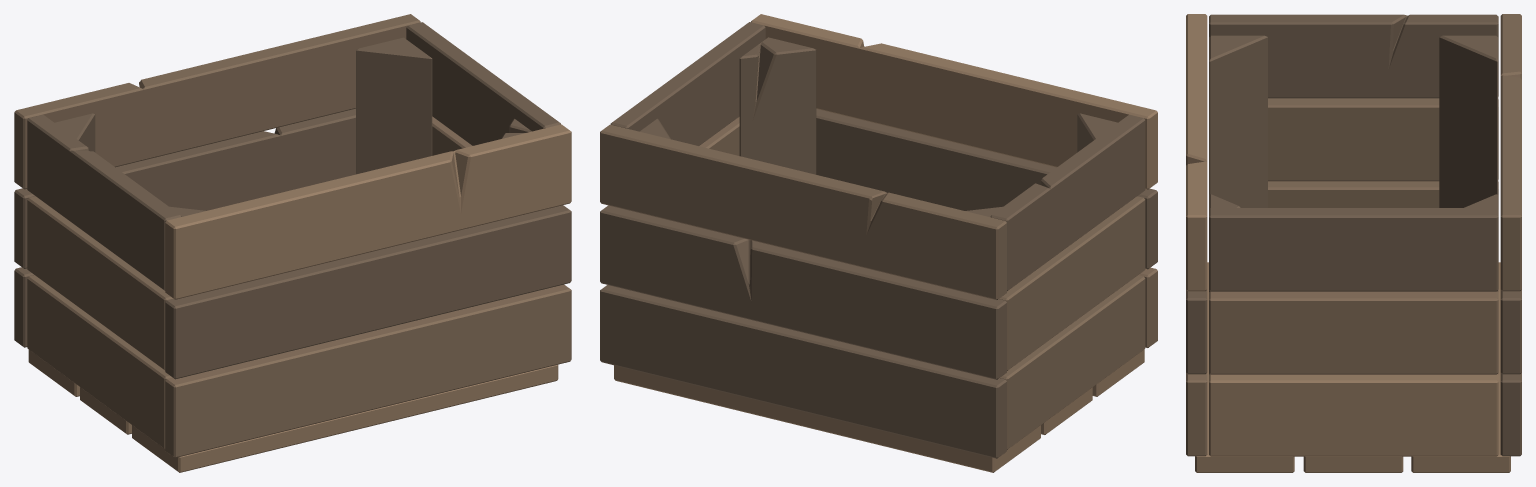
The model's file is crate_small.glb.
3 renders of one model, left to right at view 1: azimuth 30°, elevation 25°; view 2: azimuth 150°, elevation 25°; view 3: azimuth 270°, elevation 25°, orthographic. The views are drawn at different scales.
Parts seen in each view (by area): view 1: Cube.013; view 2: Cube.013; view 3: Cube.013.
Part boxes in pixels (bbox=[...]): Cube.013: bbox=[14, 14, 571, 472]; Cube.013: bbox=[600, 14, 1157, 472]; Cube.013: bbox=[1186, 14, 1521, 472].
Bounding box in the file's own units: 1.05 × 0.6345 × 0.7362.
1 material, 1 textured.
